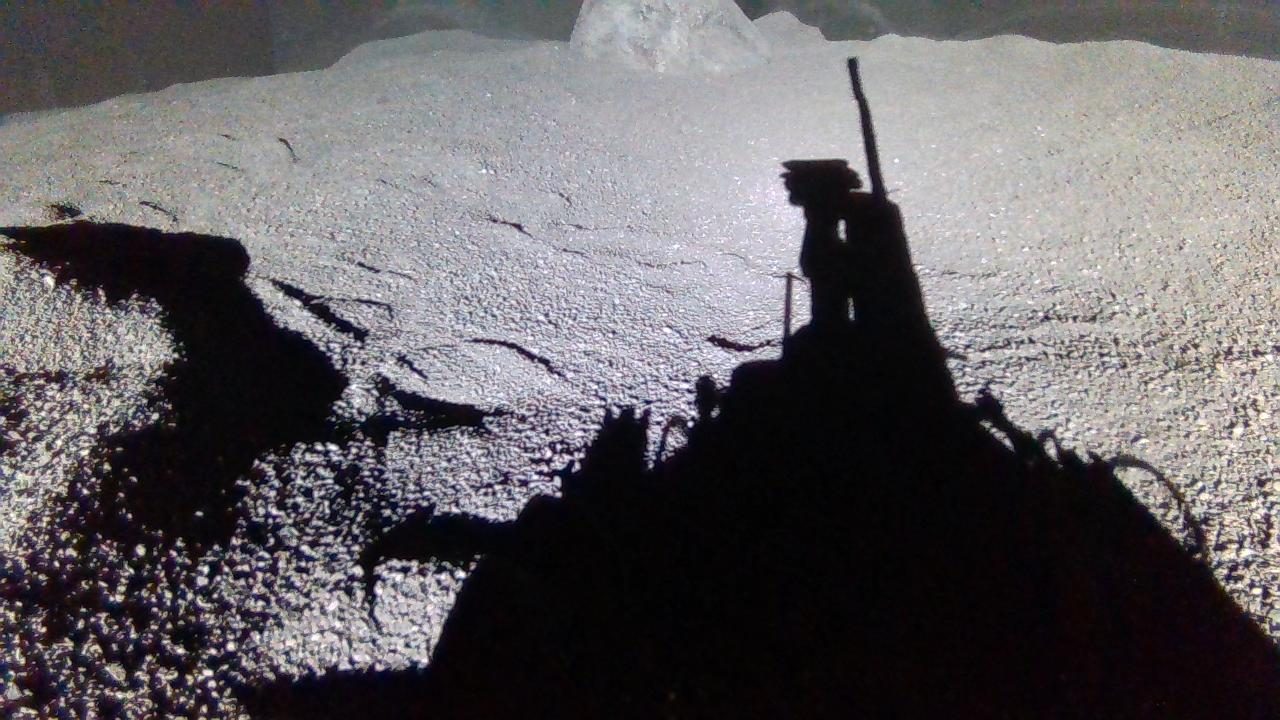rock: (571, 0, 770, 73)
